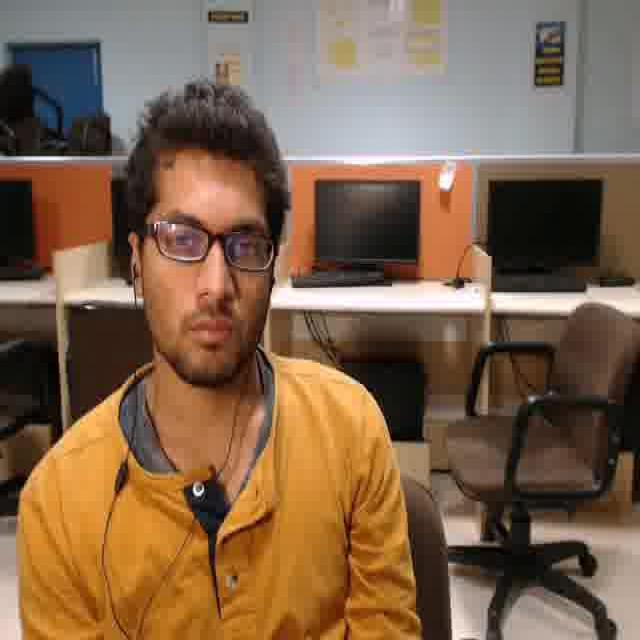Boredom: (141, 143, 274, 376)
